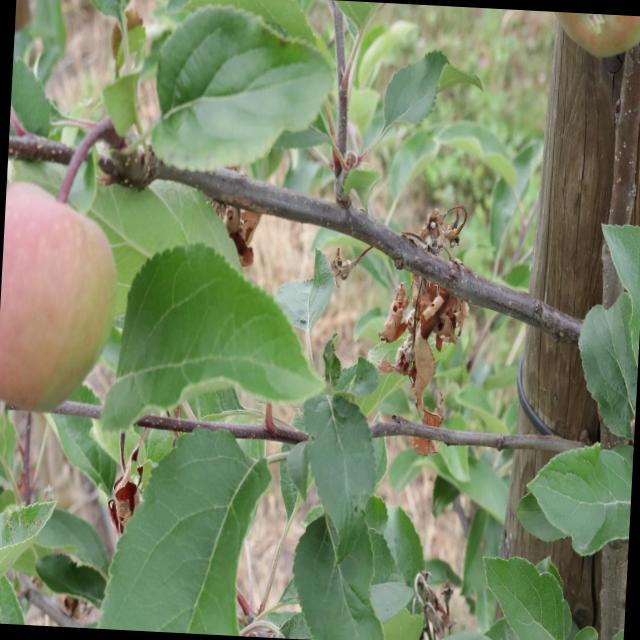-FireBlight-: (384, 206, 467, 456), (106, 431, 150, 529), (228, 206, 265, 257)
